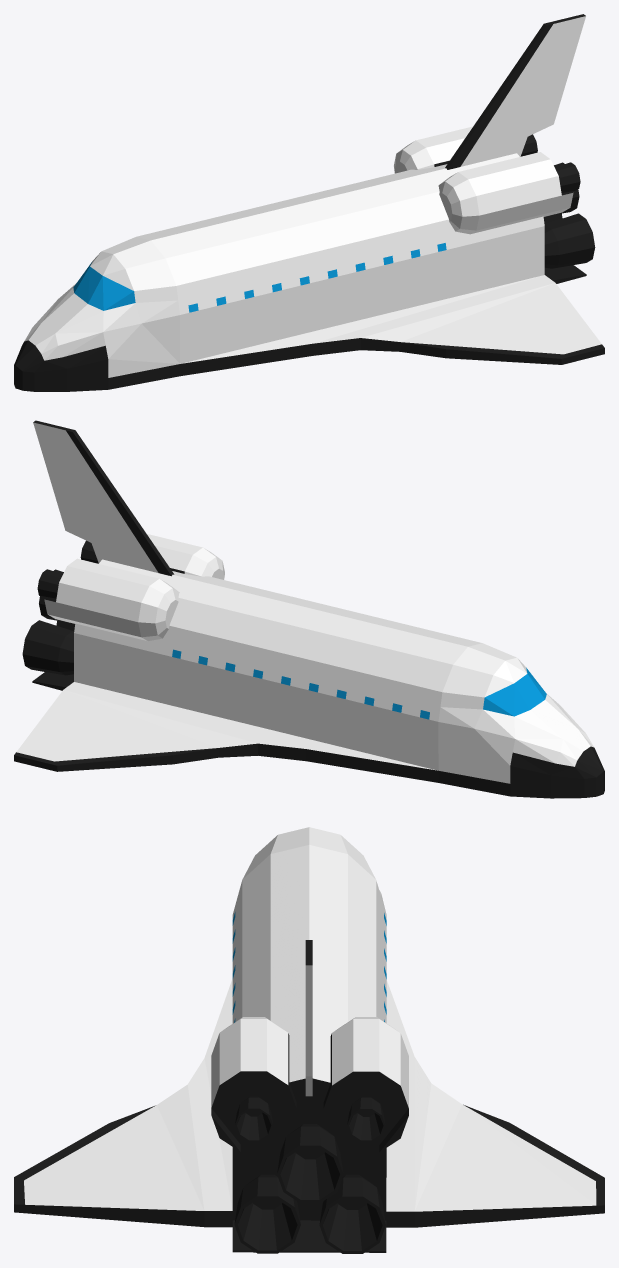
Rendered from space_shuttle.glb.
The picture shows the model from 3 angles, top to bottom: view 1: azimuth 30°, elevation 25°; view 2: azimuth 150°, elevation 25°; view 3: azimuth 270°, elevation 25°; orthographic projection. The views are drawn at different scales.
Parts seen in each view (by area): view 1: group726625651, group1439717331, group124037832, group566807635, group879436036, group1922035755, group1848871834; view 2: group726625651, group1040749795, group124037832, group1922035755, group1853460324, group566807635, group1854527572; view 3: group726625651, group1040749795, group1439717331, group1922035755, group566807635, group1326452984, group879436036, group1853460324, group1848871834, group1854527572, group124037832.
Part boxes in pixels (x1,y1,x2,y2): group726625651: [14, 153, 586, 391]; group1439717331: [180, 275, 604, 376]; group124037832: [445, 14, 585, 169]; group566807635: [438, 152, 573, 234]; group879436036: [544, 213, 595, 268]; group1922035755: [394, 126, 472, 173]; group1848871834: [555, 162, 580, 192]; group726625651: [32, 559, 604, 798]; group1040749795: [14, 682, 438, 782]; group124037832: [33, 420, 174, 576]; group1922035755: [44, 558, 179, 640]; group1853460324: [22, 620, 73, 675]; group566807635: [147, 534, 224, 579]; group1854527572: [37, 569, 62, 599]; group726625651: [232, 827, 386, 1252]; group1040749795: [386, 980, 604, 1227]; group1439717331: [14, 979, 232, 1227]; group1922035755: [323, 1017, 408, 1152]; group566807635: [211, 1017, 296, 1151]; group1326452984: [277, 1124, 343, 1202]; group879436036: [234, 1174, 300, 1253]; group1853460324: [319, 1174, 385, 1253]; group1848871834: [235, 1096, 273, 1141]; group1854527572: [347, 1097, 385, 1141]; group124037832: [305, 940, 312, 1096].
Bounding box in the file's own units: 2.44 × 0.9626 × 1.67.
